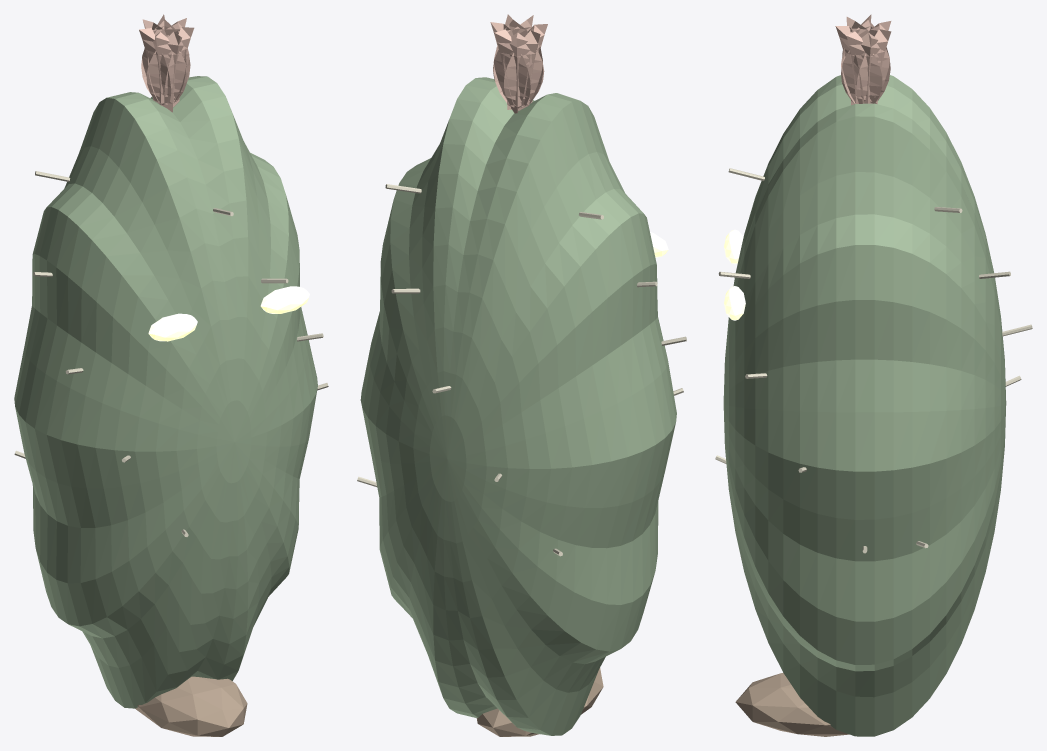
File: resident_cactus.glb
3 renders of one model, left to right at view 1: azimuth 30°, elevation 25°; view 2: azimuth 150°, elevation 25°; view 3: azimuth 270°, elevation 25°, orthographic. The views are drawn at different scales.
Parts seen in each view (by area): view 1: body, leg, petal_6, petal_0, eye_L, eye_R, petal_5, petal_1; view 2: body, petal_4, leg, petal_5, petal_3; view 3: body, leg, petal_2, petal_1, petal_3, eye_R.
Part boxes in pixels (x1,y1,x2,y2): body: (14, 76, 317, 708); leg: (135, 676, 247, 736); petal_6: (142, 32, 187, 105); petal_0: (146, 32, 189, 112); eye_L: (148, 313, 197, 341); eye_R: (260, 286, 309, 313); petal_5: (139, 28, 170, 103); petal_1: (164, 27, 194, 107); body: (360, 77, 676, 735); petal_4: (493, 32, 544, 113); leg: (476, 668, 603, 736); petal_5: (504, 30, 540, 110); petal_3: (494, 29, 530, 109); body: (723, 75, 1006, 736); leg: (735, 673, 849, 736); petal_2: (841, 32, 890, 103); petal_1: (842, 31, 882, 103); petal_3: (856, 29, 891, 104); eye_R: (724, 286, 745, 320).
Bounding box in the file's own units: 0.8248 × 1.98 × 0.8082.
